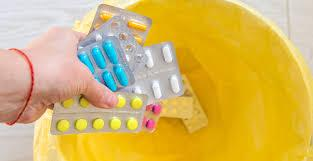pill_Strip: (50, 92, 146, 134), (121, 42, 183, 103), (78, 16, 146, 70), (78, 17, 144, 67), (78, 34, 134, 91), (133, 42, 182, 99), (89, 4, 151, 45), (94, 4, 151, 44), (50, 112, 142, 134), (54, 92, 147, 113), (141, 95, 193, 132), (121, 71, 180, 103), (122, 71, 180, 102), (182, 75, 207, 132), (144, 41, 178, 72), (160, 95, 193, 118), (183, 101, 207, 132), (141, 103, 162, 132), (178, 48, 201, 72), (142, 104, 161, 132), (87, 42, 107, 68), (77, 34, 101, 49), (102, 41, 117, 63), (78, 53, 94, 73), (102, 71, 117, 91), (113, 66, 128, 85), (150, 103, 162, 123), (72, 20, 90, 33), (169, 75, 181, 93), (162, 45, 173, 63), (145, 49, 155, 68), (151, 80, 161, 98), (128, 20, 146, 30), (146, 103, 162, 114), (108, 116, 121, 129), (142, 118, 155, 131), (145, 50, 154, 68), (56, 119, 69, 131), (145, 50, 154, 67), (126, 117, 138, 129), (75, 118, 87, 130), (182, 85, 193, 96), (92, 118, 103, 129), (131, 97, 142, 108), (131, 97, 141, 108), (61, 98, 73, 107), (116, 95, 125, 107), (79, 97, 89, 107), (100, 12, 112, 20), (133, 35, 142, 44), (131, 86, 141, 93), (146, 104, 154, 110), (141, 117, 146, 126), (94, 76, 100, 82), (95, 34, 101, 40), (93, 24, 100, 29), (126, 55, 129, 61), (136, 88, 140, 92)
